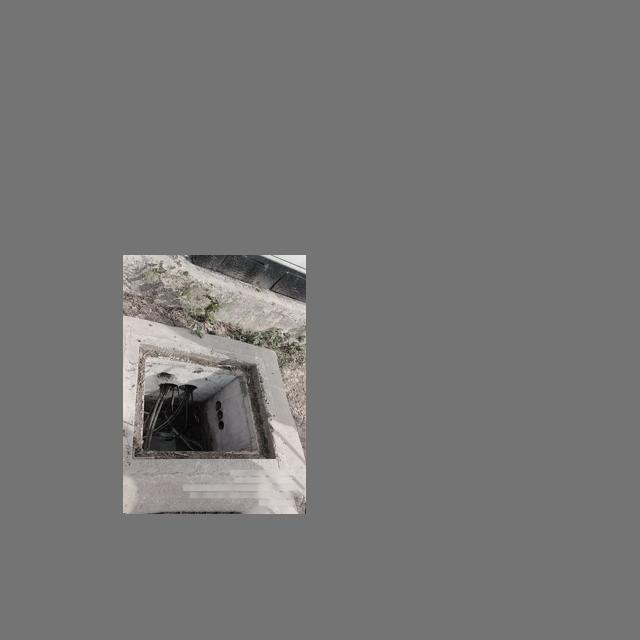lose: (123, 332, 291, 474)
